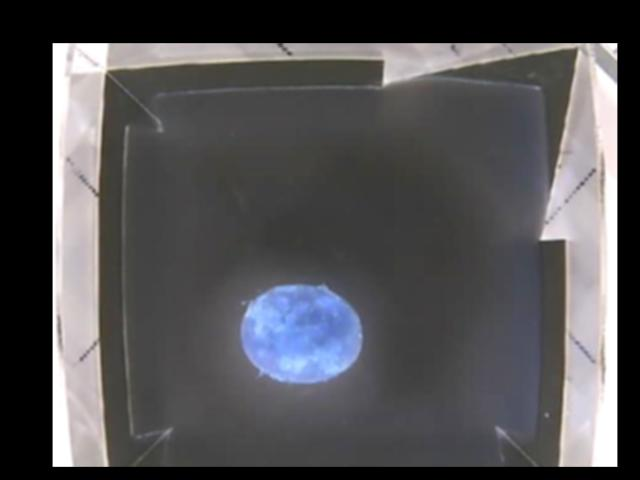Potato: (241, 282, 365, 383)
